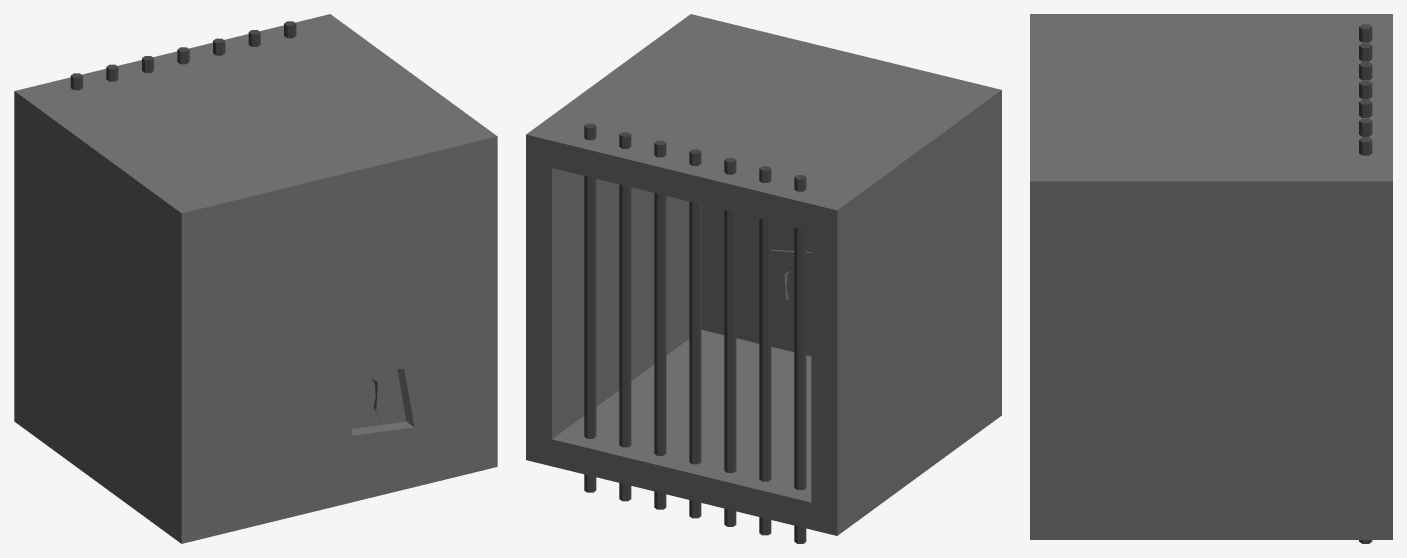
The model's file is Cell.fbx.
3 renders of one model, left to right at view 1: azimuth 30°, elevation 25°; view 2: azimuth 150°, elevation 25°; view 3: azimuth 270°, elevation 25°, orthographic. The views are drawn at different scales.
Visible parts, largest first — view 1: Walls, Destructible wall, Bars; view 2: Walls, Bars, Destructible wall; view 3: Walls, Bars.
Boxes of the visible parts, x1,y1,x2,y2 form: Walls: (14,14,497,543); Destructible wall: (346,369,406,428); Bars: (70,21,296,90); Walls: (526,14,1001,535); Bars: (584,123,806,543); Destructible wall: (751,249,811,323); Walls: (1030,14,1392,539); Bars: (1359,24,1372,543).
Bounding box in the file's own units: 600 × 672 × 550.
2 materials, 2 textured.
